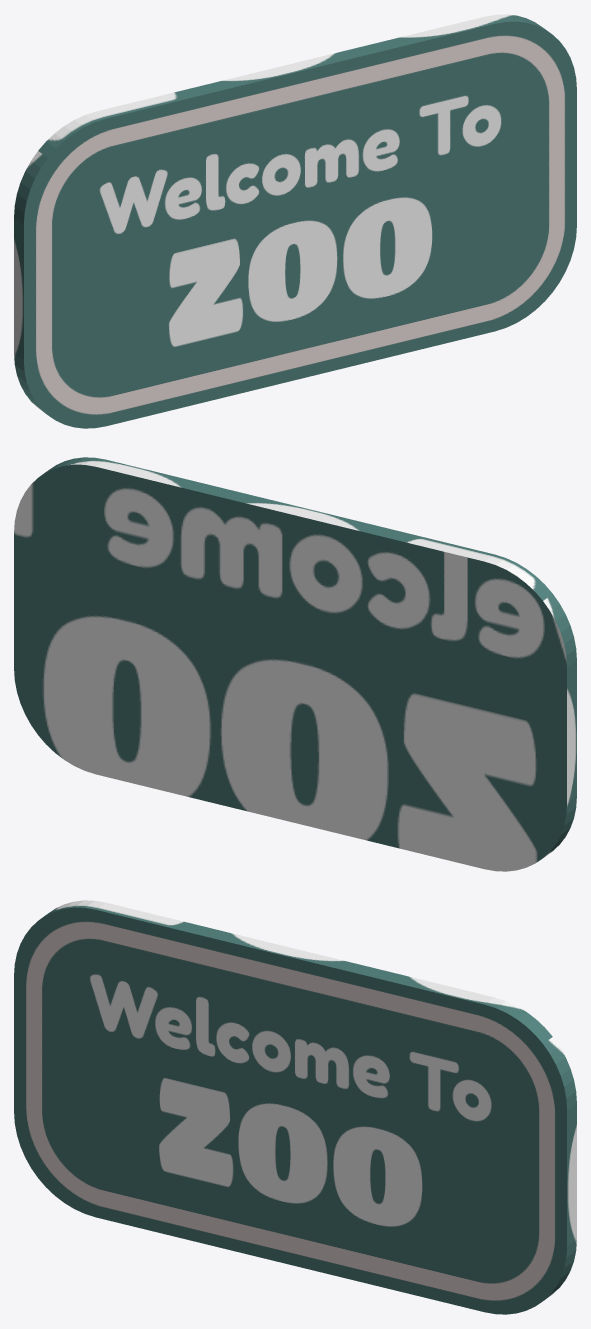
The model's file is zoo-sign.fbx.
The picture shows the model from 3 angles, top to bottom: view 1: azimuth 30°, elevation 25°; view 2: azimuth 150°, elevation 25°; view 3: azimuth 330°, elevation 25°; orthographic projection.
Parts seen in each view (by area): view 1: Curve.030; view 2: Curve.030; view 3: Curve.030.
Boxes of the visible parts, box(x1,y1,x2,y2) form: Curve.030: box(14, 14, 576, 428); Curve.030: box(14, 457, 576, 871); Curve.030: box(14, 900, 576, 1314).
Bounding box in the file's own units: 16 × 8.5 × 0.4943.
